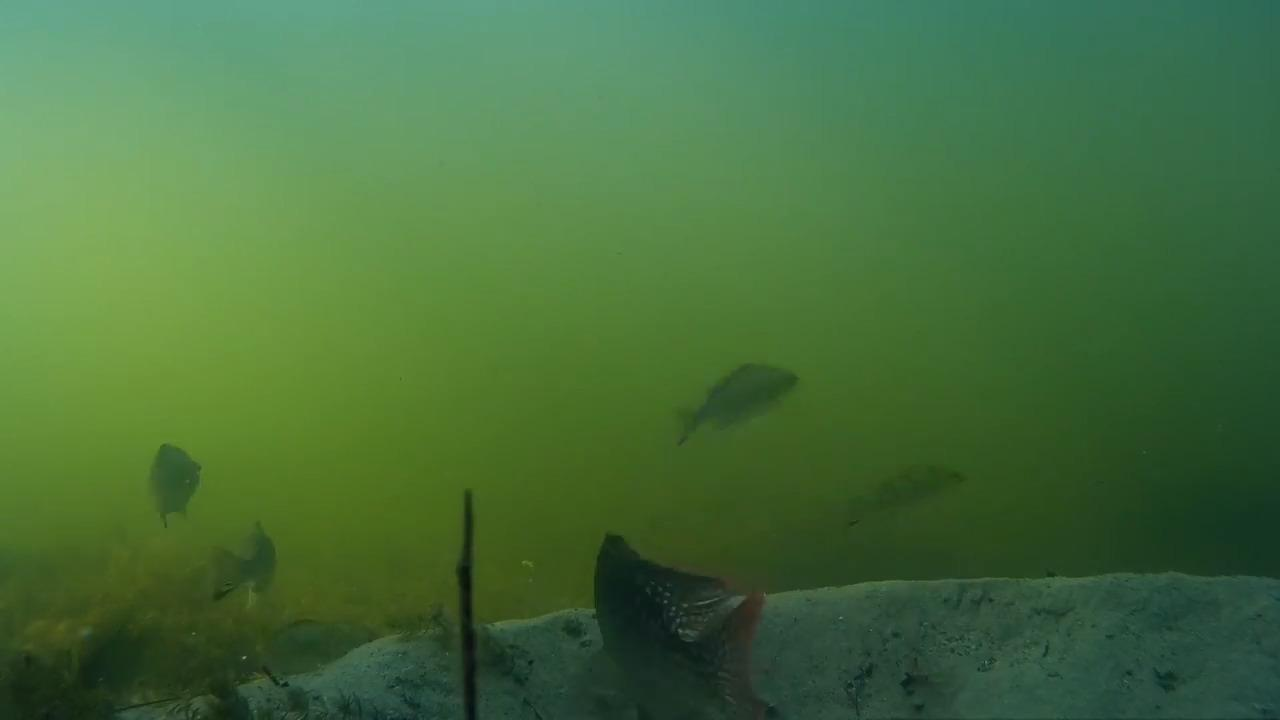Tilapia: (545, 526, 795, 720), (670, 354, 806, 452), (829, 458, 983, 542), (190, 516, 297, 604), (137, 420, 209, 532)
